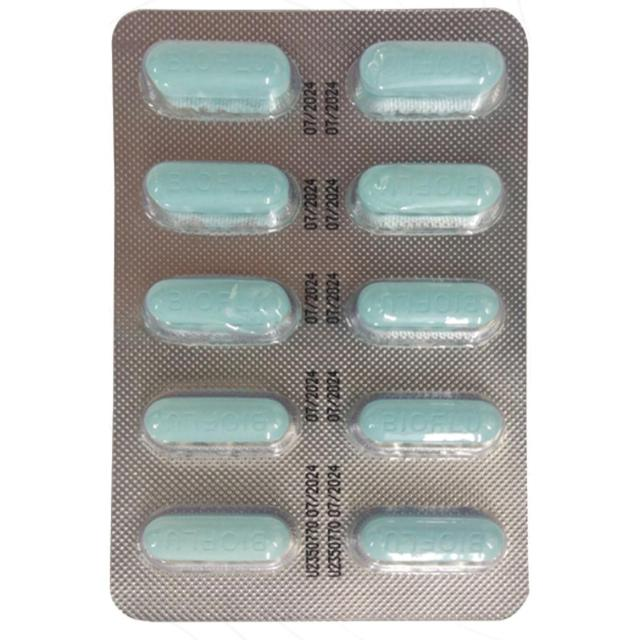blister: (108, 3, 532, 625)
